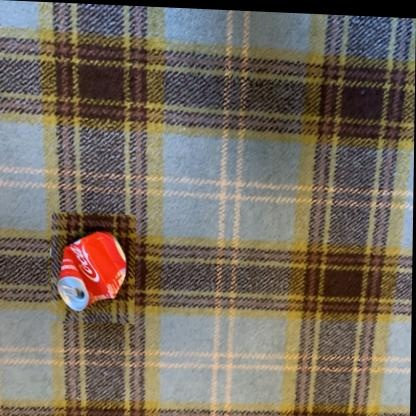trash: (57, 232, 125, 310)
